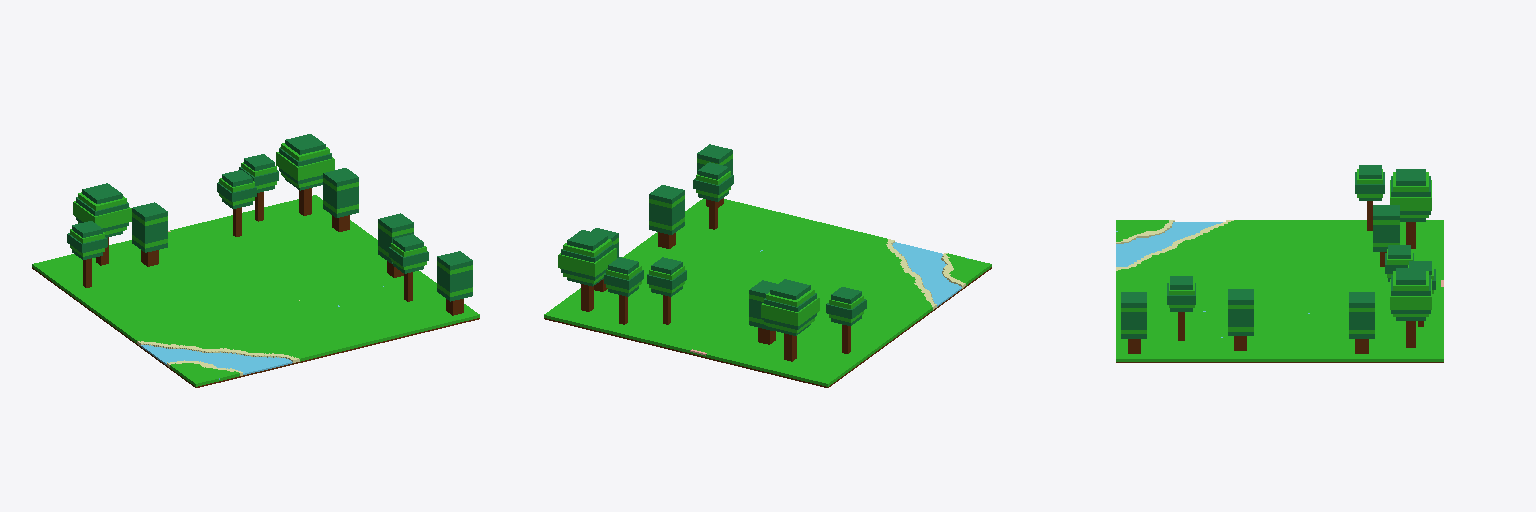
3 renders of one model, left to right at view 1: azimuth 30°, elevation 25°; view 2: azimuth 150°, elevation 25°; view 3: azimuth 270°, elevation 25°, orthographic.
Parts seen in each view (by area): view 1: Matrix, Box, Box_3, Box_4, Box_7, Box_10, Box_1, Box_6, Box_8, Box_5, Box_9; view 2: Matrix, Box_3, Box, Box_9, Box_1, Box_5, Box_8, Box_6, Box_4, Box_7; view 3: Matrix, Box, Box_3, Box_10, Box_7, Box_9, Box_4, Box_8, Box_1, Box_6.
Boxes of the visible parts, box(x1,y1,x2,y2) form: Matrix: box(32, 195, 479, 387); Box: box(276, 134, 334, 215); Box_3: box(73, 183, 131, 265); Box_4: box(132, 202, 167, 266); Box_7: box(437, 251, 472, 315); Box_10: box(323, 168, 358, 231); Box_1: box(67, 221, 107, 287); Box_6: box(217, 170, 256, 236); Box_8: box(389, 234, 428, 301); Box_5: box(239, 154, 278, 221); Box_9: box(378, 213, 413, 277); Matrix: box(544, 199, 991, 387); Box_3: box(761, 279, 819, 361); Box: box(558, 230, 616, 311); Box_9: box(649, 185, 684, 248); Box_1: box(826, 287, 866, 353); Box_5: box(604, 257, 643, 324); Box_8: box(693, 162, 733, 229); Box_6: box(647, 257, 686, 324); Box_4: box(749, 280, 777, 344); Box_7: box(697, 144, 732, 207); Matrix: box(1116, 220, 1443, 362); Box: box(1390, 268, 1431, 347); Box_3: box(1390, 169, 1431, 248); Box_10: box(1349, 292, 1374, 353); Box_7: box(1121, 292, 1146, 353); Box_9: box(1228, 289, 1253, 350); Box_4: box(1373, 205, 1399, 266); Box_8: box(1167, 276, 1195, 340); Box_1: box(1355, 165, 1384, 230); Box_6: box(1385, 245, 1413, 281).
Bounding box in the file's own units: 200 × 51 × 200.
1 materials, 1 textured.